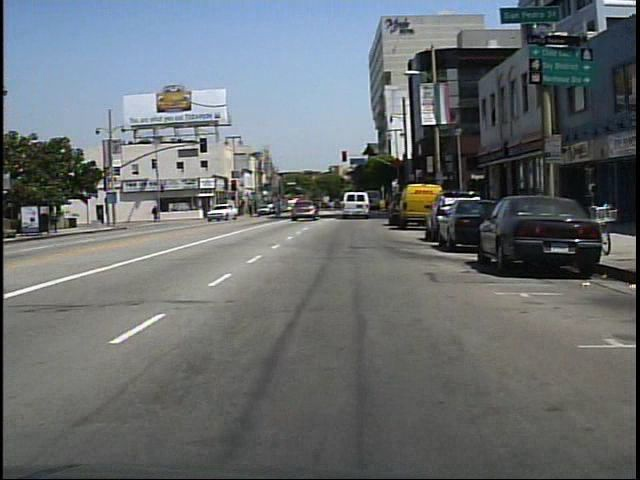person: (274, 193, 291, 223), (154, 204, 162, 223)
